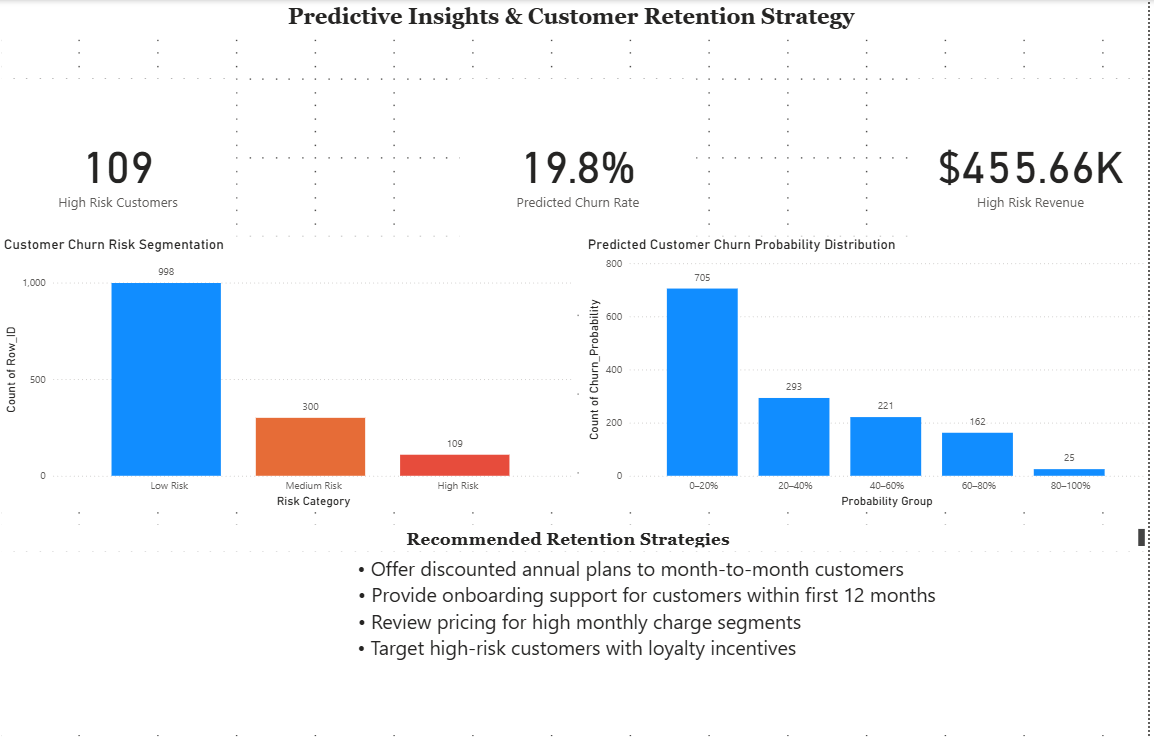

This screenshot's page, from the dashboard's own definition file:
{"tool":"powerbi","page":{"name":"Predictive Insights & Retention Strategy","canvas":[1400,900],"ordinal":3},"visuals":[{"type":"textbox","box":[-8,0,1408,48],"z":0},{"type":"card","fields":{"Values":["churn_predictions.High Risk Customers"]},"box":[0,96,288,224],"z":1000},{"type":"card","fields":{"Values":["churn_predictions.Predicted Churn Rate"]},"box":[560,96,288,224],"z":2000},{"type":"card","fields":{"Values":["churn_predictions.High Risk Revenue"]},"box":[1112,96,288,224],"z":3000},{"type":"clusteredColumnChart","title":"Customer Churn Risk Segmentation","fields":{"Category":["churn_predictions.Risk Category"],"Y":["CountNonNull(churn_predictions.Row_ID)"]},"box":[0,288,704,336],"z":4000},{"type":"clusteredColumnChart","title":"Predicted Customer Churn Probability Distribution","fields":{"Category":["churn_predictions.Probability Group"],"Y":["Count(churn_predictions.Churn_Probability)"]},"box":[712,288,688,336],"z":5000},{"type":"textbox","box":[-8,640,1408,32],"z":6000},{"type":"textbox","box":[-8,672,1408,224],"z":7000}]}

Visuals, with their boxes in screenshot pixels (x1, y1, x2, y2), scaled from the page's 1400x900 canvas onto the 1154x738 screenshot:
textbox: bbox=[0, 0, 1153, 39]
card - churn_predictions.High Risk Customers: bbox=[0, 79, 237, 262]
card - churn_predictions.Predicted Churn Rate: bbox=[462, 79, 699, 262]
card - churn_predictions.High Risk Revenue: bbox=[917, 79, 1153, 262]
"Customer Churn Risk Segmentation" clusteredColumnChart: bbox=[0, 236, 580, 512]
"Predicted Customer Churn Probability Distribution" clusteredColumnChart: bbox=[587, 236, 1153, 512]
textbox: bbox=[0, 525, 1153, 551]
textbox: bbox=[0, 551, 1153, 735]
